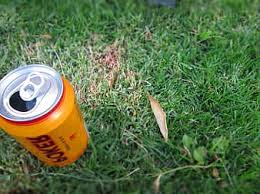can: (1, 64, 88, 171)
